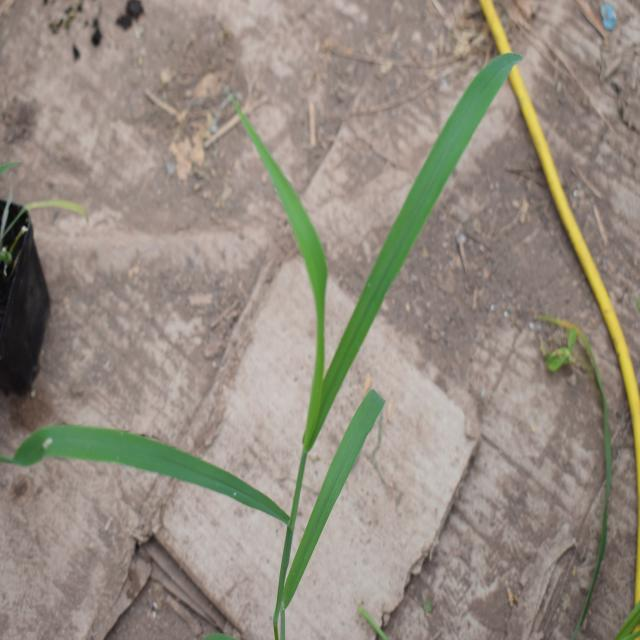crabgrass: (48, 58, 507, 550)
